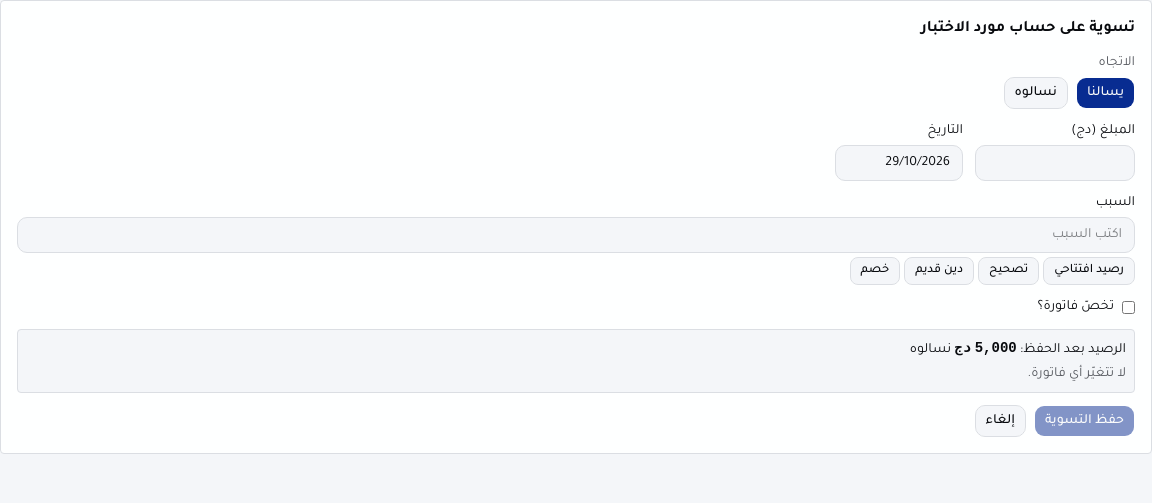
Test: SupplierAdjustPanel (issue 176) › offers no link when there is no open purchase invoice
Click the checkbox labelled "تخصّ فاتورة؟". click: point(1128, 307)
box: 1122,300 -> 1135,314
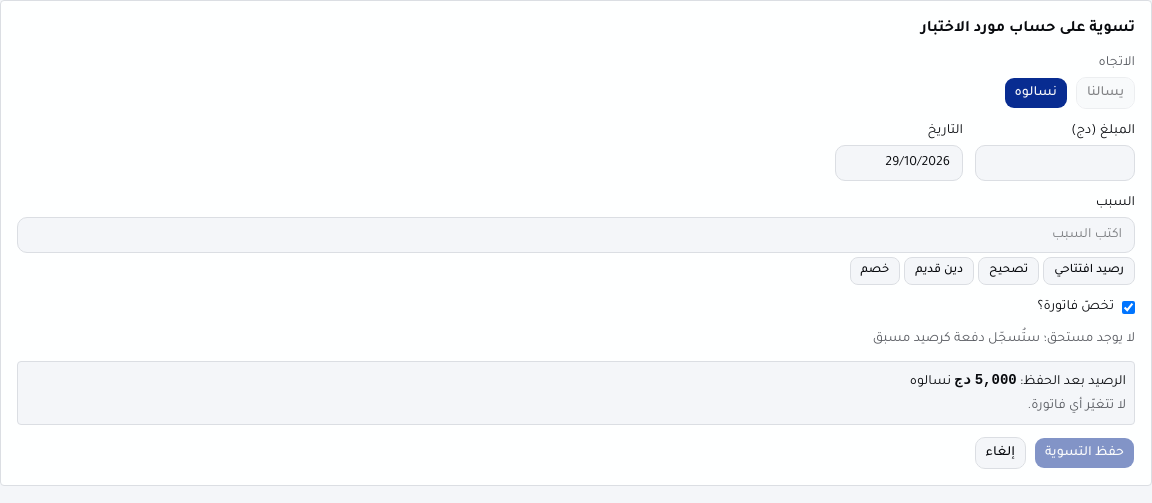
Expected: the button with test id "supplier-adjust-confirm" is disabled, 1034,437 -> 1135,469
Now the text "لا يوجد مستحق؛ ستُسجّل دفعة كرصيد مسبق" is shown, box 873,332 -> 1135,346
